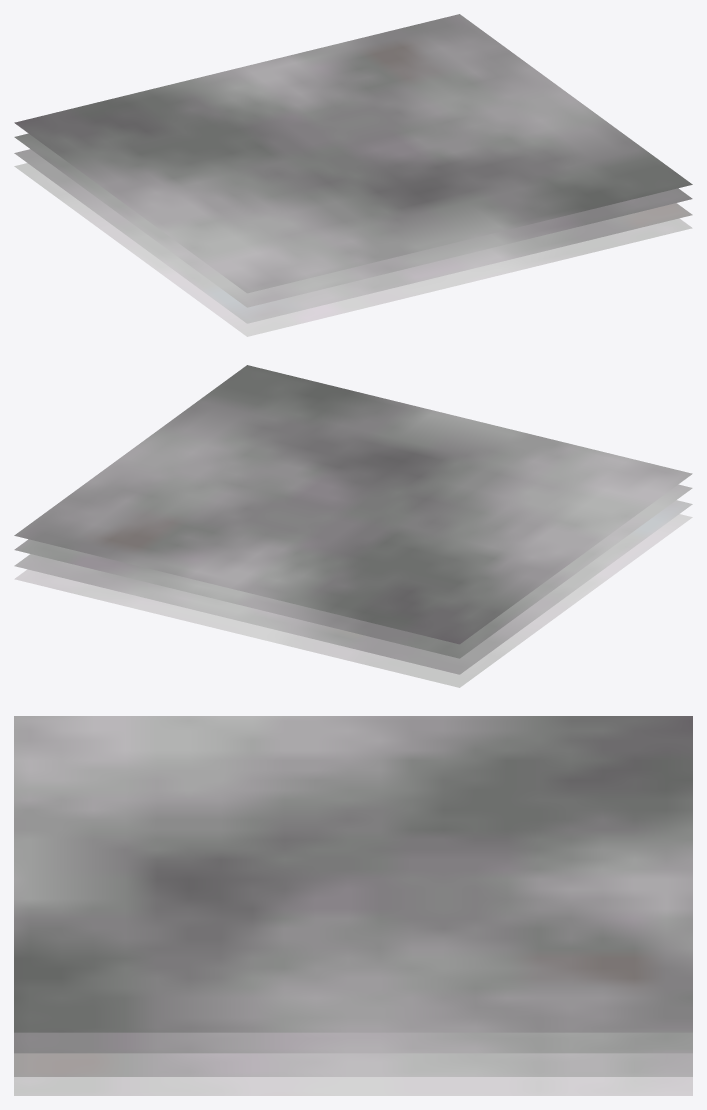
Rendered from SWORDLIGHT20_MAINCAVERNCLOUDS13.fbx.
3 views of the same model, one above another, from view 1: azimuth 30°, elevation 25°; view 2: azimuth 150°, elevation 25°; view 3: azimuth 270°, elevation 25° (orthographic). The views are drawn at different scales.
Parts seen in each view (by area): view 1: SWORDLIGHT20_MAINCAVERNCLOUDS13; view 2: SWORDLIGHT20_MAINCAVERNCLOUDS13; view 3: SWORDLIGHT20_MAINCAVERNCLOUDS13.
Part boxes in pixels (<box>): SWORDLIGHT20_MAINCAVERNCLOUDS13: <box>14,14,692,336</box>; SWORDLIGHT20_MAINCAVERNCLOUDS13: <box>14,365,692,687</box>; SWORDLIGHT20_MAINCAVERNCLOUDS13: <box>14,716,692,1095</box>.
Size of the model in its own units: 161490 by 15056 by 146334.
Materials: 4 (4 with a texture image).
